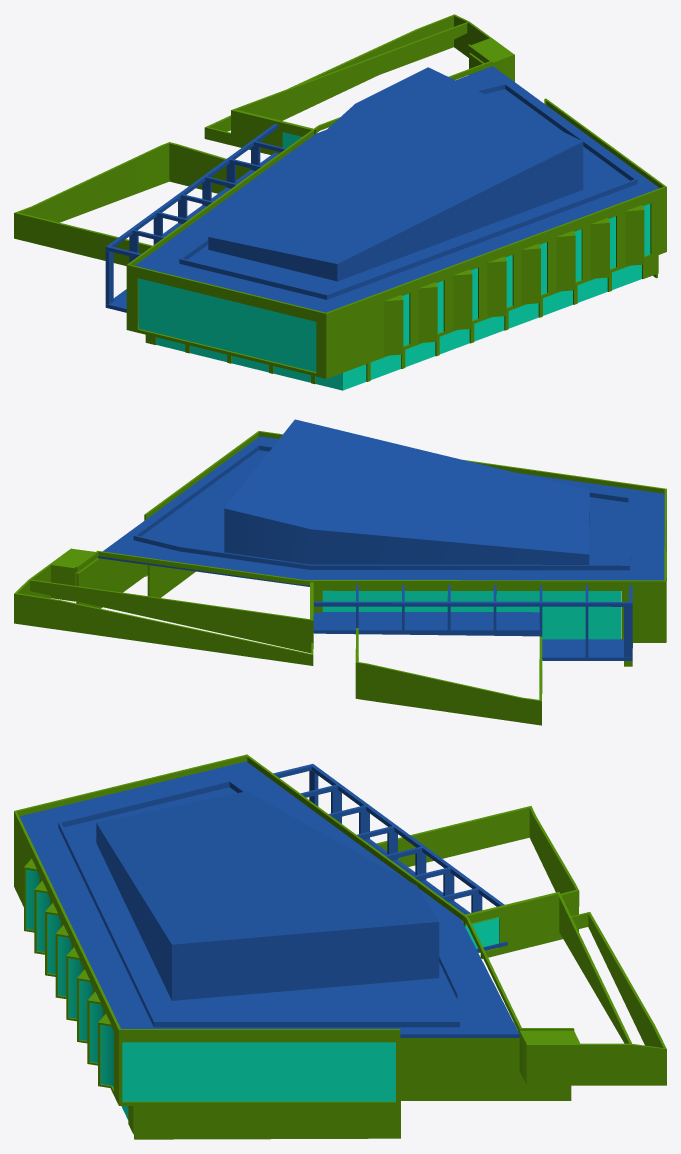
The model's file is SM_Bld_Blok8_01a.fbx.
The picture shows the model from 3 angles, top to bottom: view 1: azimuth 30°, elevation 25°; view 2: azimuth 150°, elevation 25°; view 3: azimuth 270°, elevation 25°; orthographic projection. The views are drawn at different scales.
Parts seen in each view (by area): view 1: SM_Bld_Blok8_01a; view 2: SM_Bld_Blok8_01a; view 3: SM_Bld_Blok8_01a.
Boxes of the visible parts, left/top/right/bottom form: SM_Bld_Blok8_01a: left=14, top=14, right=666, bottom=390; SM_Bld_Blok8_01a: left=14, top=419, right=666, bottom=725; SM_Bld_Blok8_01a: left=14, top=754, right=666, bottom=1139.
Size of the model in its own units: 6986 by 1823 by 6677.
